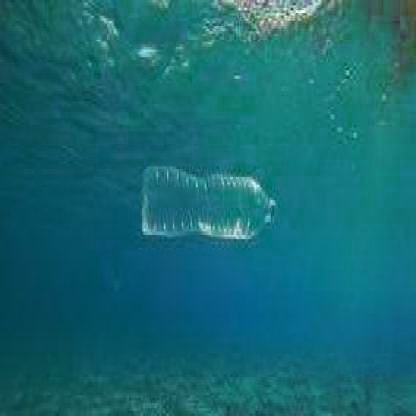pbottle: (138, 146, 280, 254)
